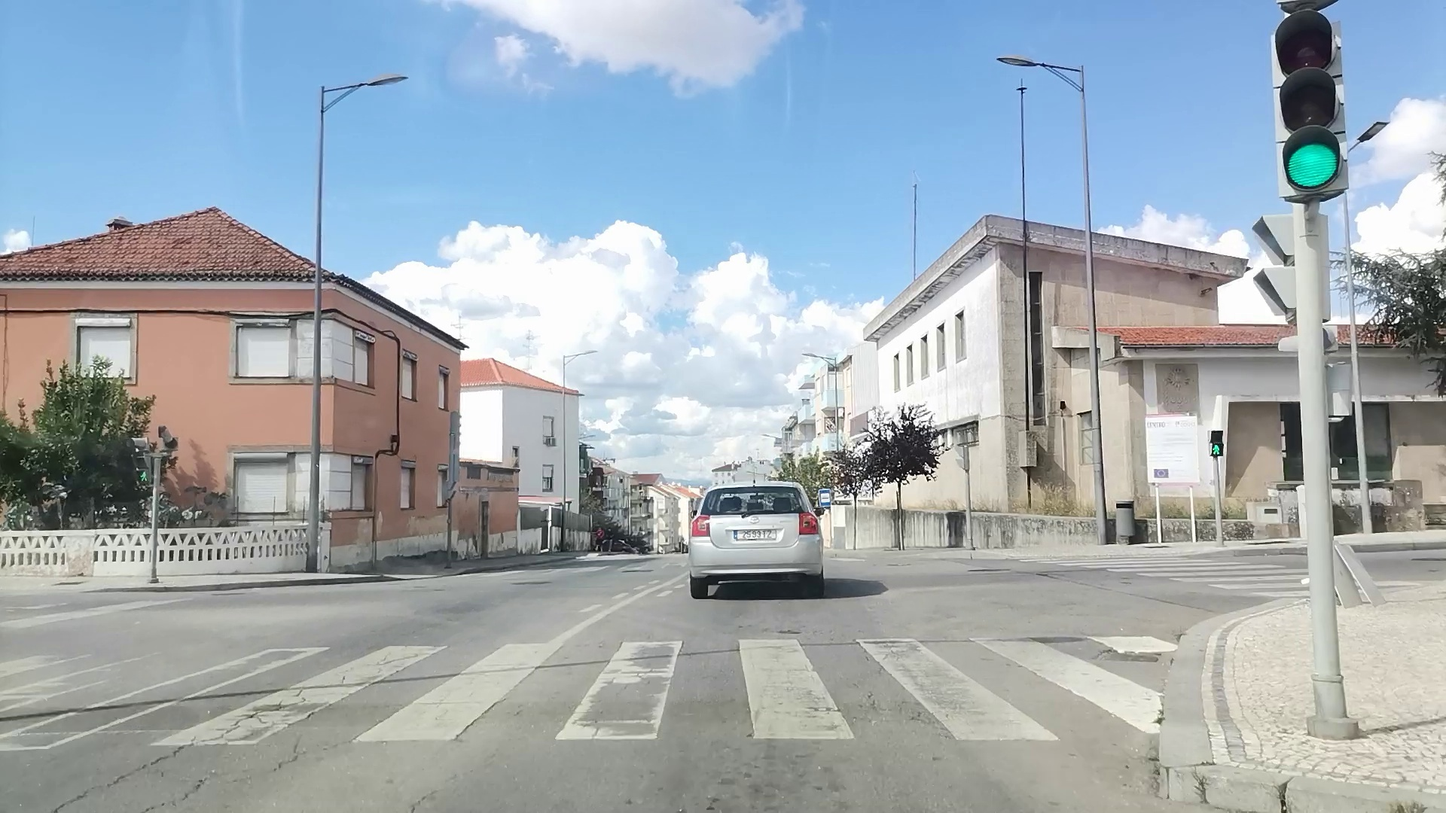Stairs: (0, 630, 1179, 749)
